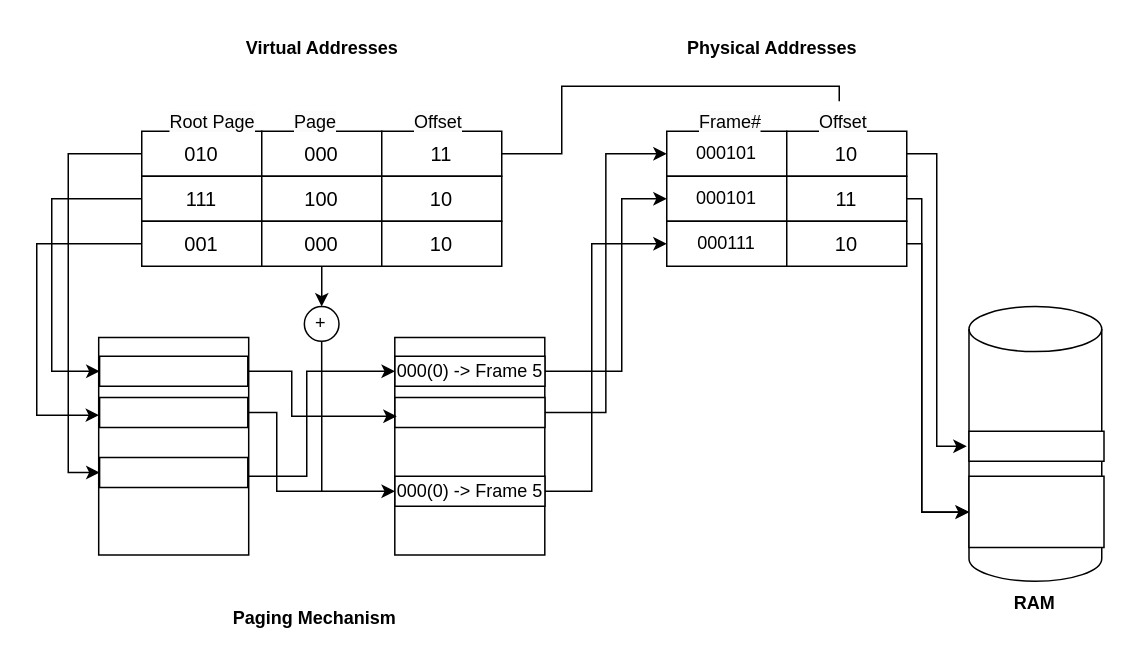
Image size: 1131x666. Some labels were removed from this diagram. The shapes that lost their labels are listed below. From the top down, each one's centre as x and y in pixels, then its label:
At [173,370]: "010(2) -> Page 2".
At [173,412]: "011(7) -> Page 3".
At [469,412]: "100(4) -> Frame 2".
At [1036,445]: "0b00001010".
At [173,472]: "001(1) -> Page 1".
At [1036,511]: "0b00010111 0b00010110".
